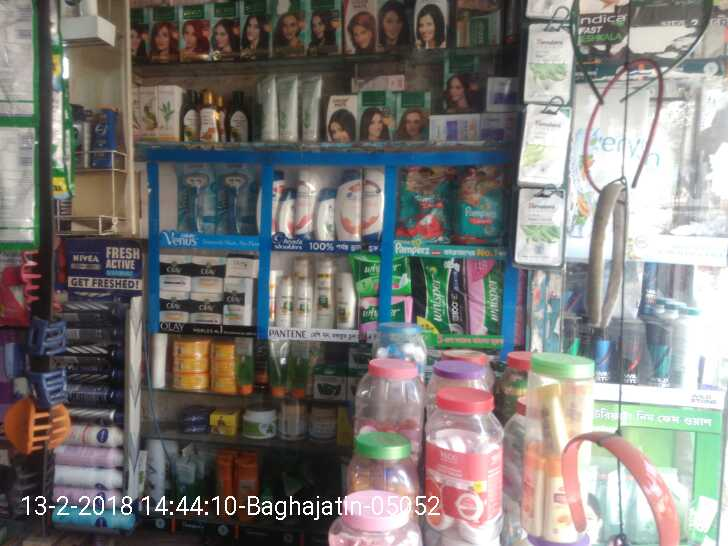venus: (216, 163, 256, 232), (177, 164, 216, 232)
